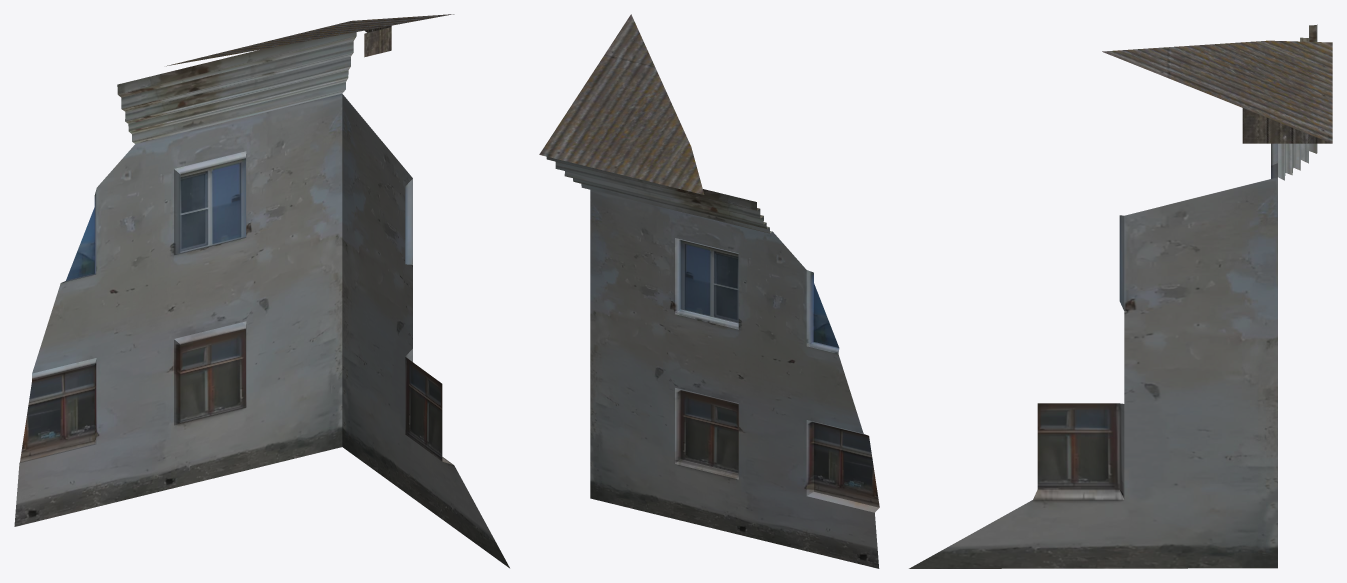
Rendered from House_03_08.fbx.
The picture shows the model from 3 angles, left to right: view 1: azimuth 30°, elevation 25°; view 2: azimuth 150°, elevation 25°; view 3: azimuth 270°, elevation 25°; orthographic projection. The views are drawn at different scales.
Parts seen in each view (by area): view 1: Дом2.008; view 2: Дом2.008; view 3: Дом2.008.
Boxes of the visible parts, box(x1,y1,x2,y2) form: Дом2.008: box(14, 14, 509, 568); Дом2.008: box(539, 14, 879, 568); Дом2.008: box(909, 24, 1332, 568).
Bounding box in the file's own units: 12.64 × 16.16 × 11.62.
1 material, 1 textured.
